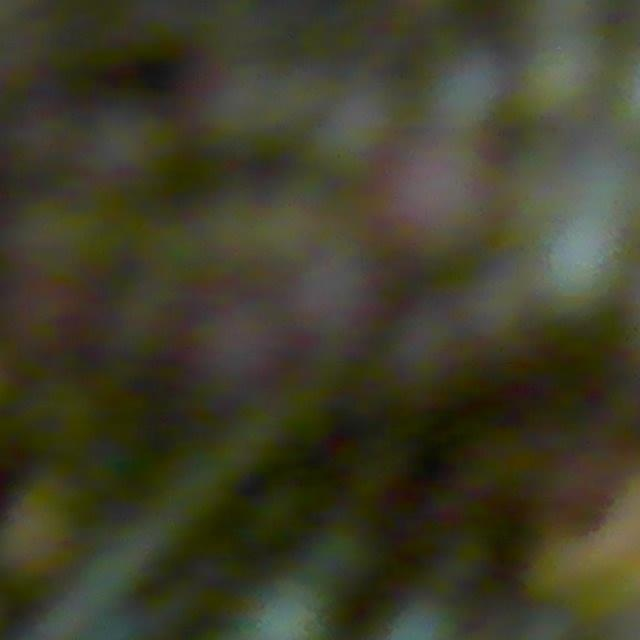SeaGrape: (534, 215, 622, 333), (519, 33, 605, 121), (307, 520, 376, 586)
